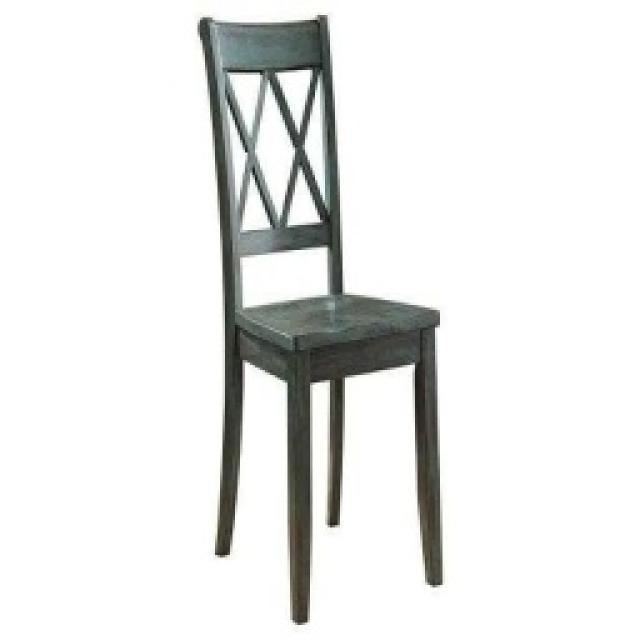sandalye: (195, 10, 443, 622)
